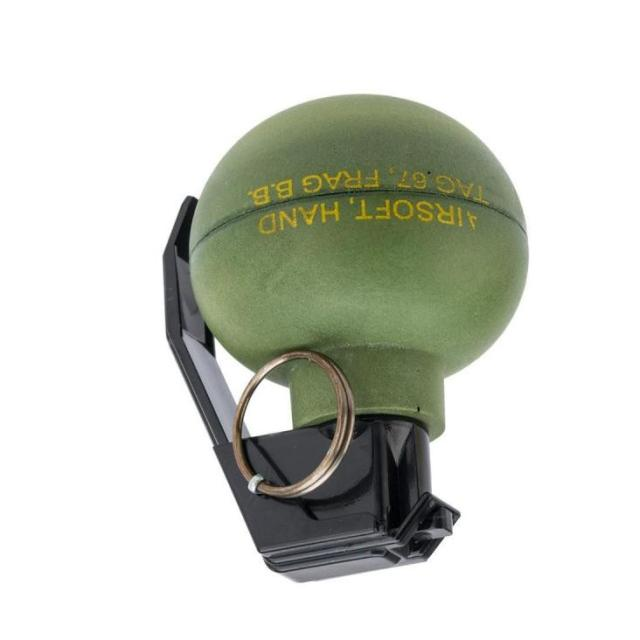grenade: (163, 94, 529, 584)
